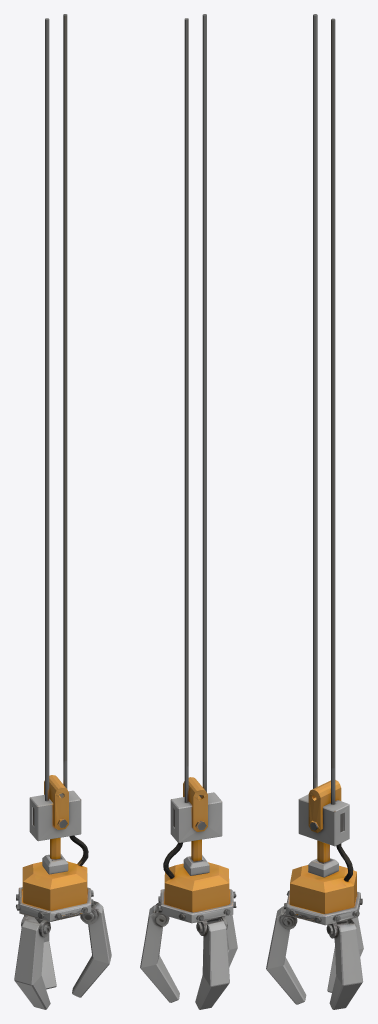
Rendered from garra.fbx.
The picture shows the model from 3 angles, left to right: view 1: azimuth 30°, elevation 25°; view 2: azimuth 210°, elevation 25°; view 3: azimuth 330°, elevation 25°; orthographic projection.
Parts seen in each view (by area): view 1: base, garra1, garra2, garra3; view 2: base, garra3, garra2, garra1; view 3: base, garra2, garra1, garra3.
Part boxes in pixels (x1,y1,x2,y2): base: [16, 14, 93, 921]; garra1: [14, 915, 50, 1009]; garra2: [72, 901, 111, 997]; garra3: [24, 915, 56, 989]; base: [158, 14, 236, 923]; garra3: [195, 916, 229, 1009]; garra2: [140, 902, 179, 1002]; garra1: [224, 915, 237, 967]; base: [284, 14, 362, 925]; garra2: [326, 919, 363, 1009]; garra1: [266, 906, 306, 1004]; garra3: [327, 917, 363, 992].
Size of the model in its own units: 247 by 2414 by 206.
